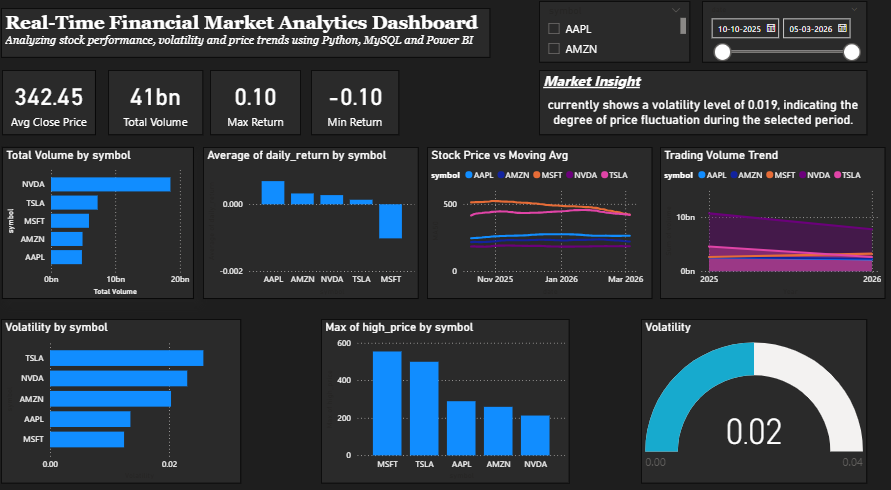

The dashboard page shown, as its layout file describes it:
{"tool":"powerbi","page":{"name":"Page 1","canvas":[1280,720],"ordinal":0},"visuals":[{"type":"card","fields":{"Values":["stock_market_data.Avg Close Price"]},"box":[7.1,107.1,134.3,92.9],"z":0},{"type":"card","fields":{"Values":["stock_market_data.Max Return"]},"box":[304.3,107.1,130,92.9],"z":1000},{"type":"card","fields":{"Values":["stock_market_data.Min Return"]},"box":[448.6,107.1,125.7,92.9],"z":2000},{"type":"card","fields":{"Values":["stock_market_data.Total Volume"]},"box":[158.6,107.1,135.7,92.9],"z":3000},{"type":"clusteredBarChart","fields":{"Category":["stock_market_data.symbol"],"Y":["stock_market_data.Total Volume"]},"box":[6.8,217.5,274.1,217.5],"z":4000},{"type":"columnChart","fields":{"Category":["stock_market_data.symbol"],"Y":["Avg(stock_market_data.daily_return)"]},"box":[294.5,217.5,308.1,217.5],"z":5000},{"type":"slicer","fields":{"Values":["stock_market_data.symbol"]},"box":[773.9,8.7,215.9,88.4],"z":6000},{"type":"slicer","fields":{"Values":["stock_market_data.date"]},"box":[1007.2,8.7,236.2,88.4],"z":7000},{"type":"barChart","fields":{"Category":["stock_market_data.symbol"],"Y":["stock_market_data.Volatility"]},"box":[5.8,462.3,343.5,234.8],"z":8000},{"type":"clusteredColumnChart","fields":{"Category":["stock_market_data.symbol"],"Y":["Max(stock_market_data.high_price)"]},"box":[462.3,462.3,355.1,234.8],"z":9000},{"type":"areaChart","title":"Trading Volume Trend","fields":{"Category":["stock_market_data.date.Variation.Date Hierarchy.Year","stock_market_data.date.Variation.Date Hierarchy.Quarter","stock_market_data.date.Variation.Date Hierarchy.Month","stock_market_data.date.Variation.Date Hierarchy.Day"],"Y":["Sum(stock_market_data.volume)"],"Series":["stock_market_data.symbol"]},"box":[947,217.5,321.7,217.5],"z":10000},{"type":"lineChart","title":"Stock Price vs Moving Avg","fields":{"Category":["stock_market_data.date"],"Series":["stock_market_data.symbol"],"Y":["stock_market_data.MA50"]},"box":[613.9,217.5,321.7,217.5],"z":11000},{"type":"gauge","fields":{"Y":["stock_market_data.Volatility"]},"box":[920.3,462.3,323.2,234.8],"z":12000},{"type":"textbox","box":[5.7,18.6,698.6,71.4],"z":13000},{"type":"card","title":"Market Insight","fields":{"Values":["stock_market_data.Dynamic Insight"]},"box":[774.3,107.1,468.6,92.9],"z":13002}]}

Visuals, with their boxes in screenshot pixels (x1, y1, x2, y2), scaled from the page's 1280x720 canvas onto the 891x490 screenshot:
card - stock_market_data.Avg Close Price: 5, 73, 98, 136
card - stock_market_data.Max Return: 212, 73, 302, 136
card - stock_market_data.Min Return: 312, 73, 400, 136
card - stock_market_data.Total Volume: 110, 73, 205, 136
clusteredBarChart - stock_market_data.symbol x stock_market_data.Total Volume: 5, 148, 196, 296
columnChart - stock_market_data.symbol x Avg(stock_market_data.daily_return): 205, 148, 419, 296
slicer - stock_market_data.symbol: 539, 6, 689, 66
slicer - stock_market_data.date: 701, 6, 866, 66
barChart - stock_market_data.symbol x stock_market_data.Volatility: 4, 315, 243, 474
clusteredColumnChart - stock_market_data.symbol x Max(stock_market_data.high_price): 322, 315, 569, 474
"Trading Volume Trend" areaChart: 659, 148, 883, 296
"Stock Price vs Moving Avg" lineChart: 427, 148, 651, 296
gauge - stock_market_data.Volatility: 641, 315, 866, 474
textbox: 4, 13, 490, 61
"Market Insight" card: 539, 73, 865, 136
